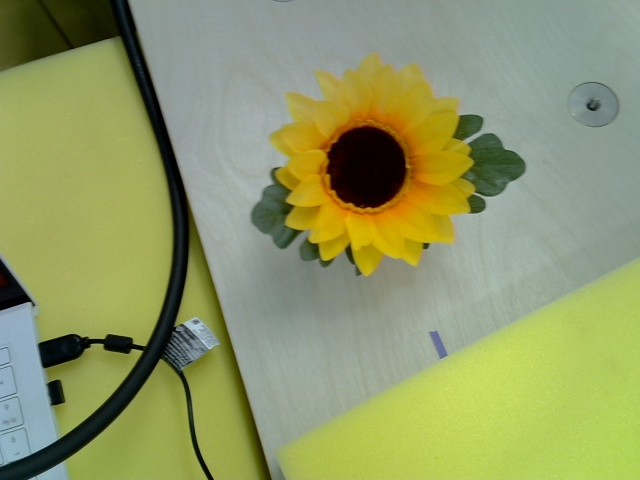해바라기: (273, 51, 472, 273)
